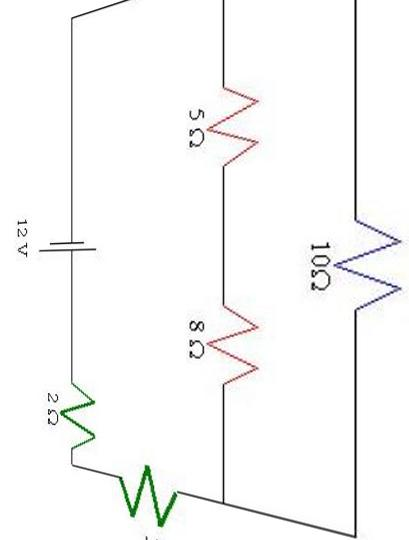resistor: (334, 190, 405, 333), (208, 64, 272, 172), (109, 461, 186, 528), (63, 374, 109, 461)
